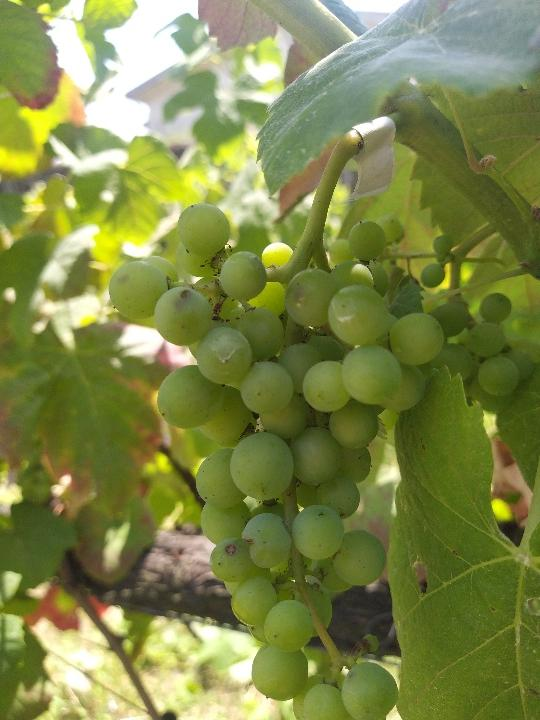grape: (108, 200, 450, 716)
